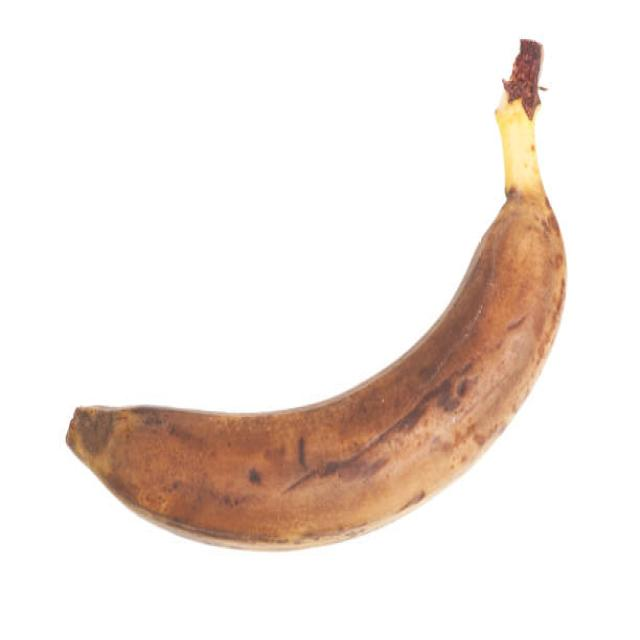overripe: (63, 90, 570, 558)
